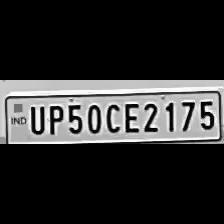0: (84, 101, 103, 133)
1: (160, 100, 176, 132)
2: (140, 99, 160, 133)
5: (194, 97, 216, 131), (63, 102, 83, 134)
7: (176, 98, 194, 132)
C: (102, 101, 120, 133)
E: (120, 100, 140, 134)
P: (44, 102, 64, 136)
U: (27, 102, 46, 136)
